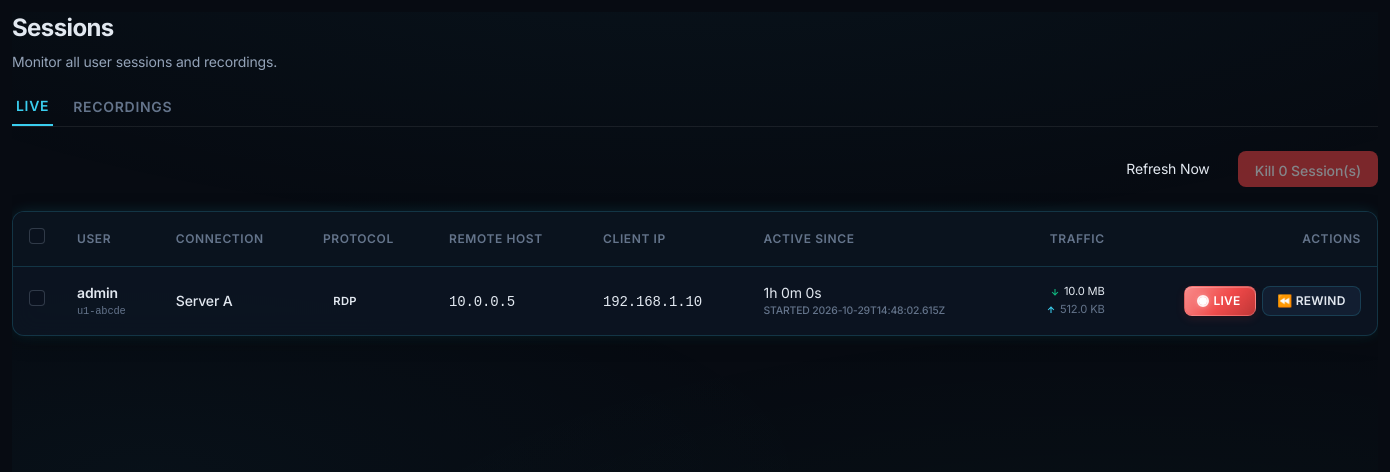
Test case: Sessions › filters recordings by search
Click the button "Recordings" at (123, 111), box x1=69 y1=96 x2=176 y2=126
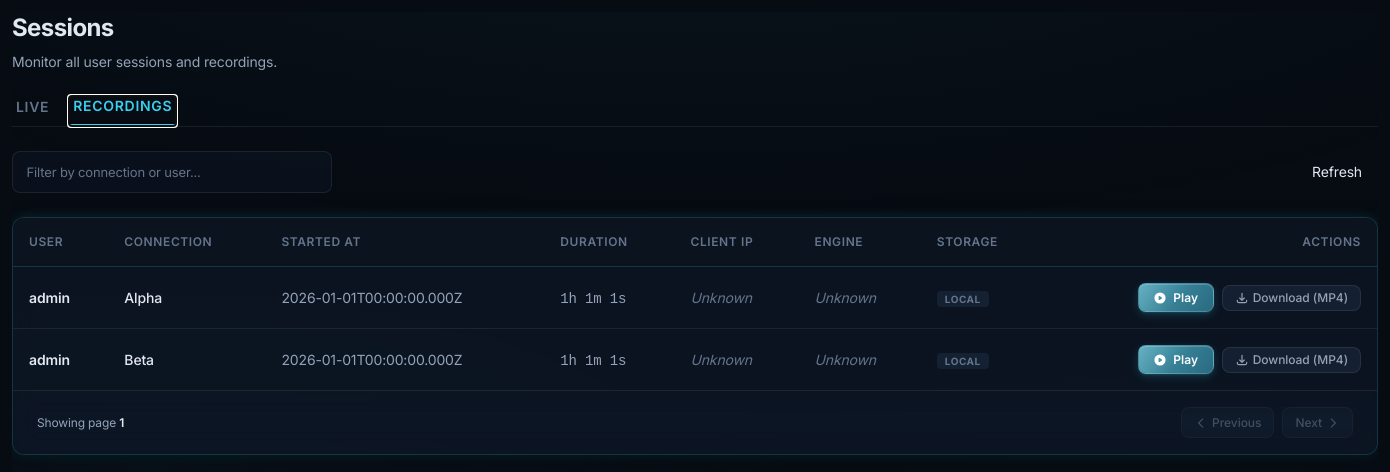
Check: the text "Alpha" is shown, box x1=124 y1=289 x2=162 y2=306
Type "Alpha" into the field with placeholder "Filter by connection or user..." at (172, 172), box x1=12 y1=151 x2=332 y2=193
Wait 350 ms
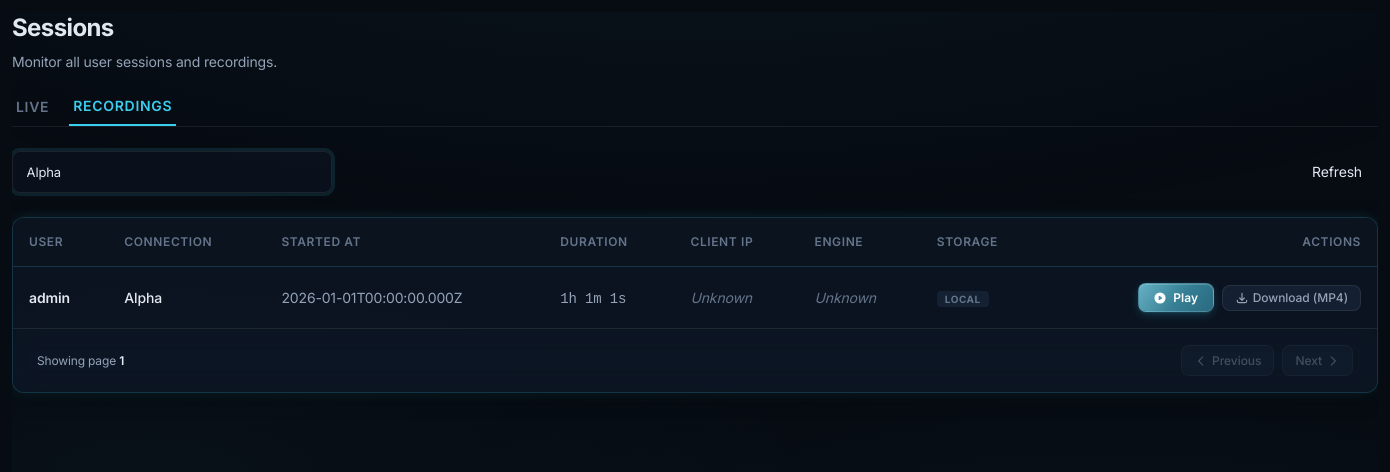
Check: the text "Alpha" is shown, box x1=124 y1=289 x2=162 y2=306
Check: the text "Beta" is gone
